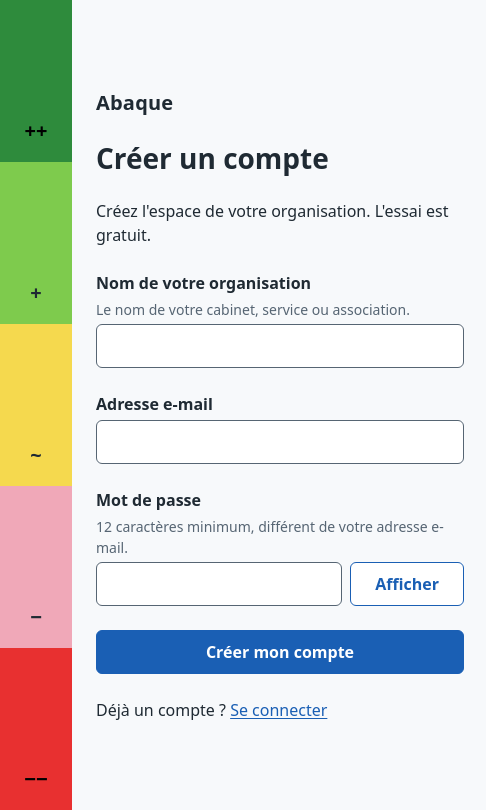
Test: account pages › says when signups are closed
The image size is (486, 810).
Type "X" into the field labelled "Nom de votre organisation" at (280, 346), box [96,324,464,368]
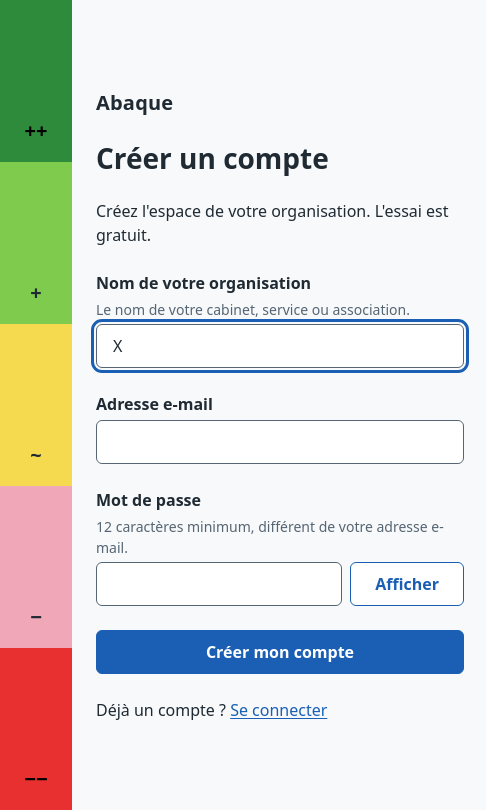
Type "a@example.com" into the field labelled "Adresse e-mail" at (280, 442), box [96,420,464,464]
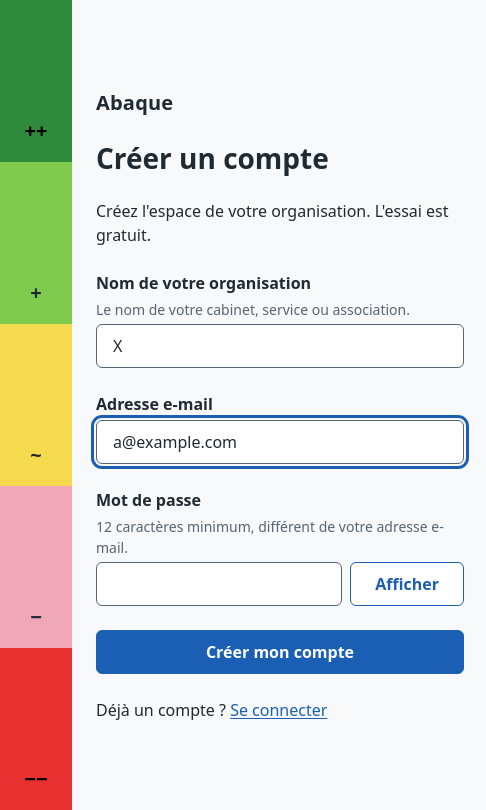
Type "Correct-Horse-42" into the password field labelled "Mot de passe" at (219, 584), box [96,562,342,606]
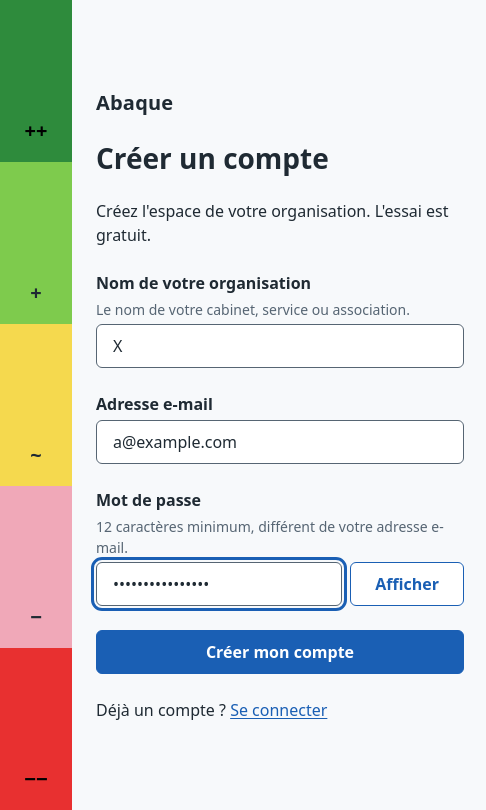
Click the button "Créer mon compte" at (280, 652), box [96,630,464,674]
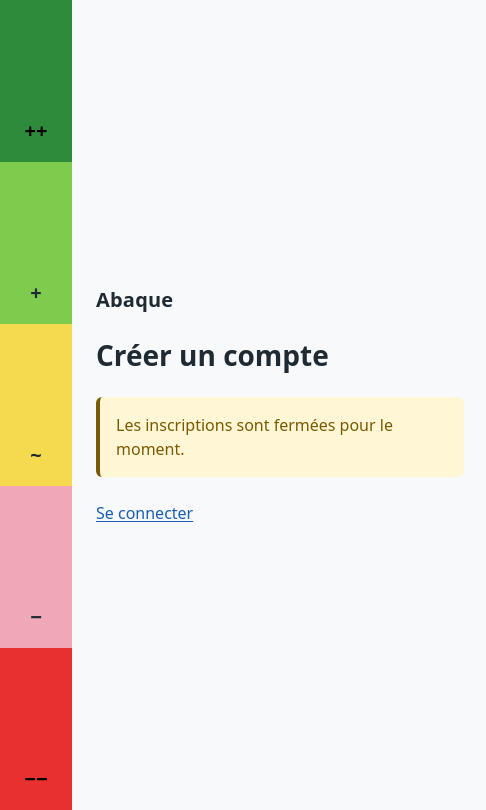
Expected: the message shows "inscriptions sont fermées", [116,414,393,460]
